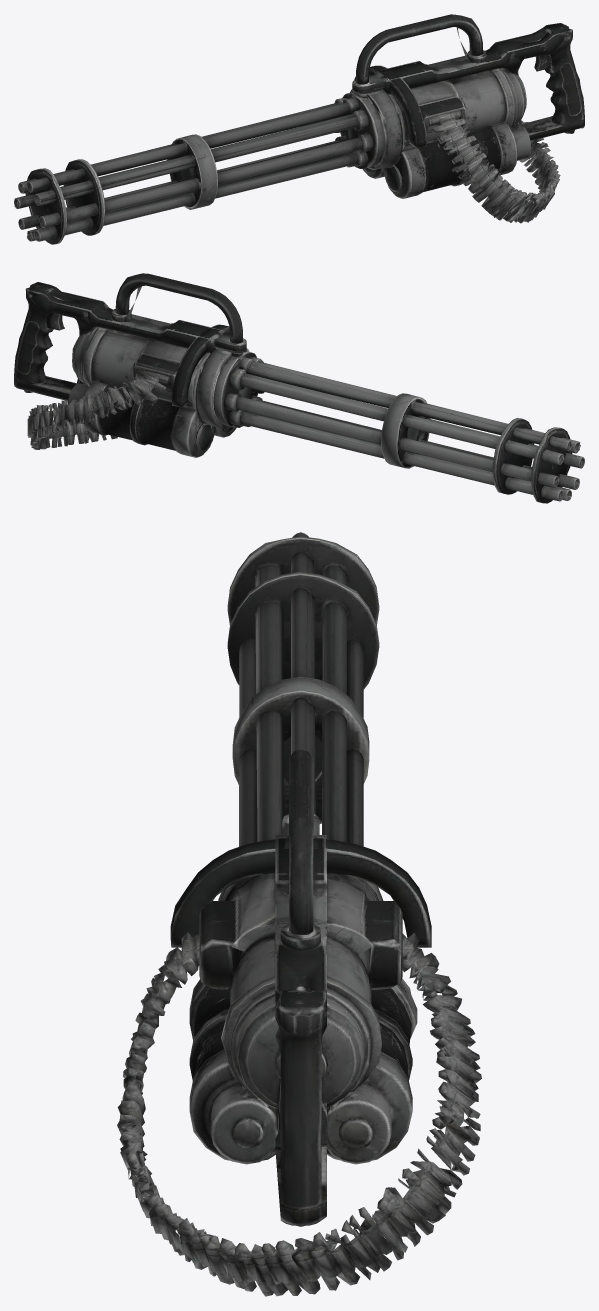
Rendered from w_minigun.glb.
3 renders of one model, top to bottom at view 1: azimuth 30°, elevation 25°; view 2: azimuth 150°, elevation 25°; view 3: azimuth 270°, elevation 25°, orthographic. The views are drawn at different scales.
Size of the model in its own units: 0.9551 by 0.3281 by 0.2725.
1 material, 1 textured.
